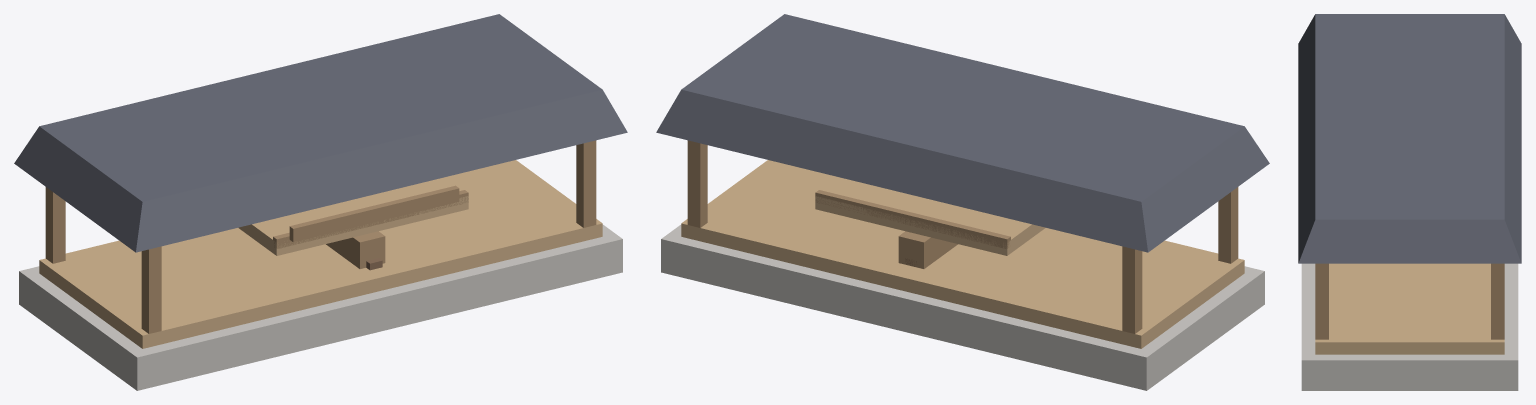
The model's file is station_廊.glb.
3 views of the same model, side by side, from view 1: azimuth 30°, elevation 25°; view 2: azimuth 150°, elevation 25°; view 3: azimuth 270°, elevation 25° (orthographic). The views are drawn at different scales.
Parts seen in each view (by area): view 1: 廊; view 2: 廊; view 3: 廊.
Boxes of the visible parts, x1,y1,x2,y2 form: 廊: (14, 14, 627, 390); 廊: (656, 14, 1269, 390); 廊: (1298, 14, 1521, 390).
Bounding box in the file's own units: 1.54 × 0.54 × 0.66.
